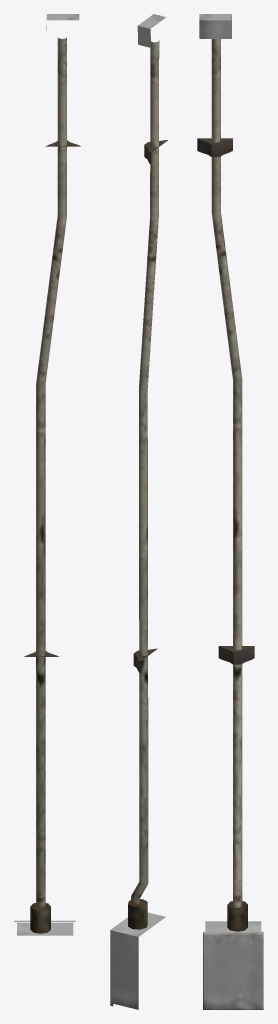
File: prison_switchbox001a.glb
3 renders of one model, left to right at view 1: azimuth 90°, elevation 25°; view 2: azimuth 150°, elevation 25°; view 3: azimuth 270°, elevation 25°, orthographic.
Visible parts, largest first — view 1: 0_prison_objects004; view 2: 0_prison_objects004; view 3: 0_prison_objects004.
Part boxes in pixels (left/top/right/bottom): 0_prison_objects004: left=14, top=14, right=80, bottom=935; 0_prison_objects004: left=110, top=14, right=167, bottom=1009; 0_prison_objects004: left=197, top=14, right=263, bottom=1009.
Size of the model in its own units: 0.0805 by 2.7 by 0.1656.
1 material, 1 textured.
